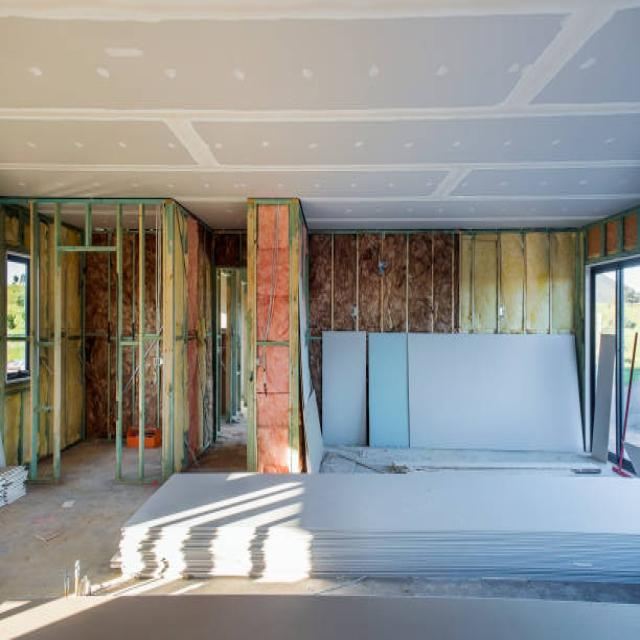floor: (0, 438, 640, 640), (186, 404, 247, 473)
wall: (247, 197, 299, 474)
